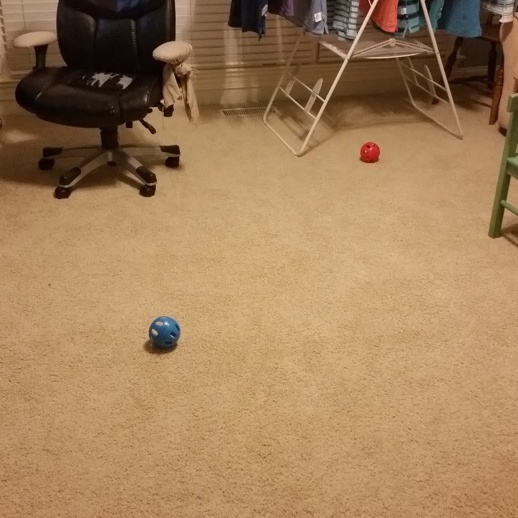ball: (144, 311, 184, 350), (358, 140, 382, 165)
